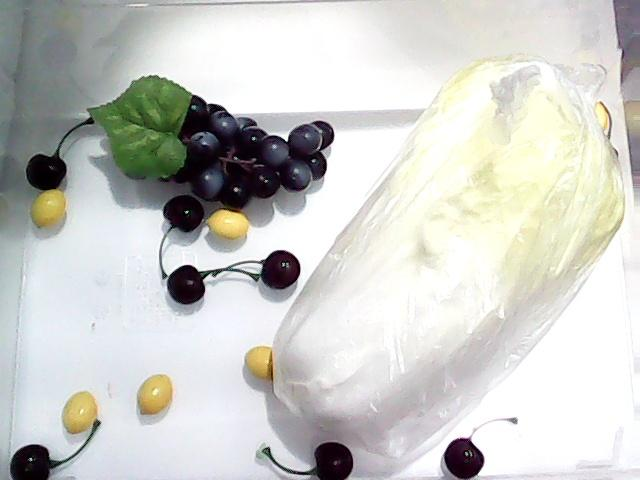grape: (84, 72, 338, 208)
napa cabbage: (261, 50, 623, 441)
